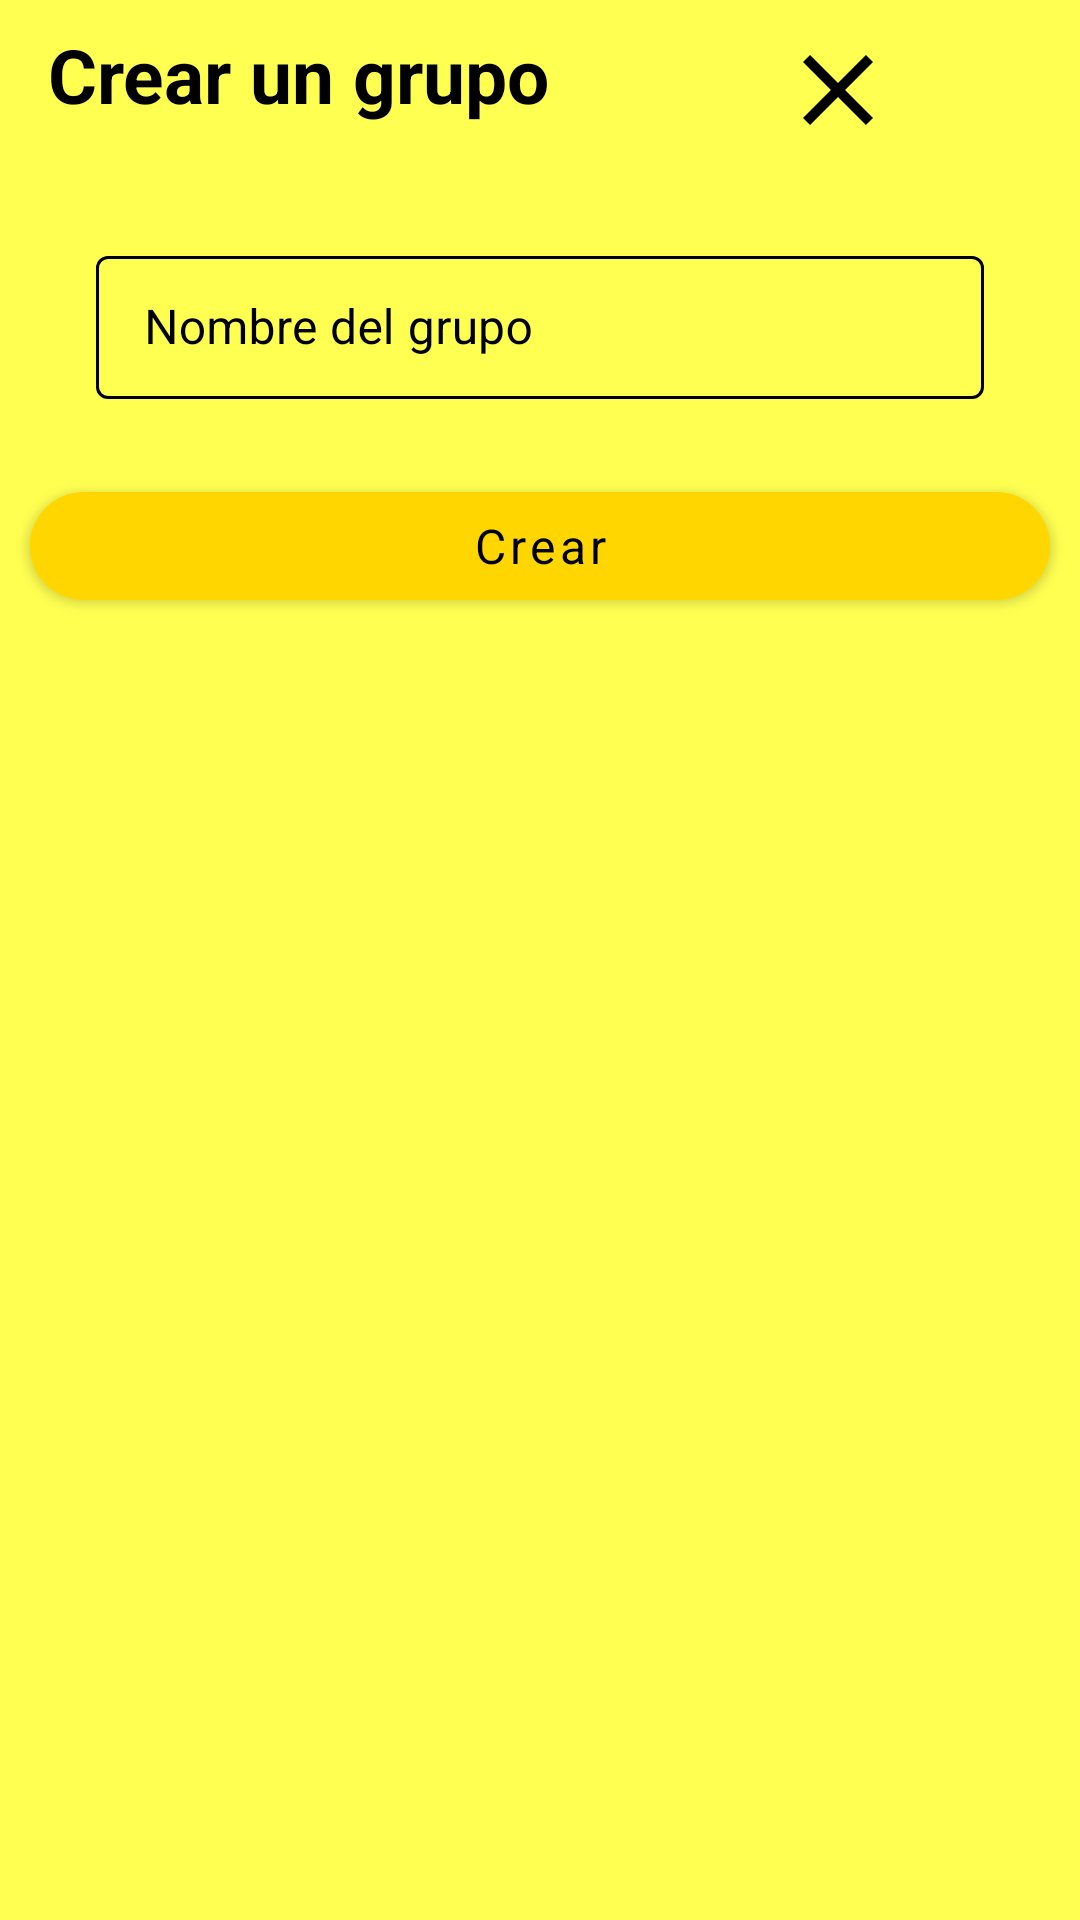

Screen size 1080w x 1920h. Icon name, then its center in pixels as point (x, y):
close: point (838, 90)
